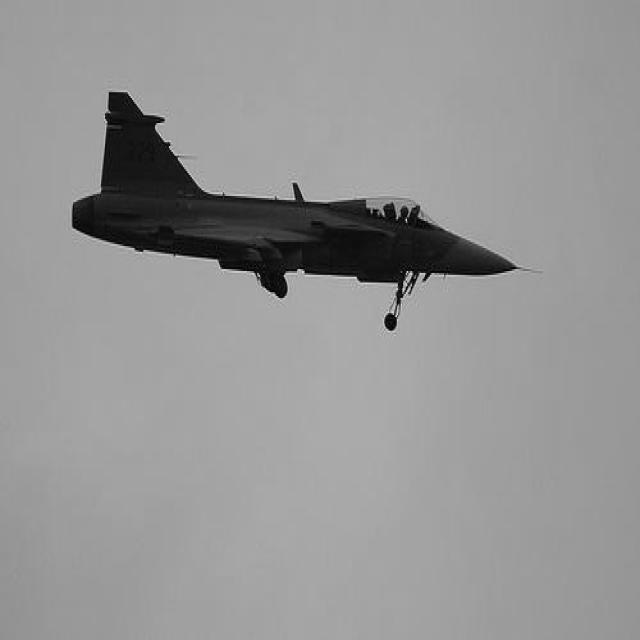aeroplane: (66, 86, 552, 334)
